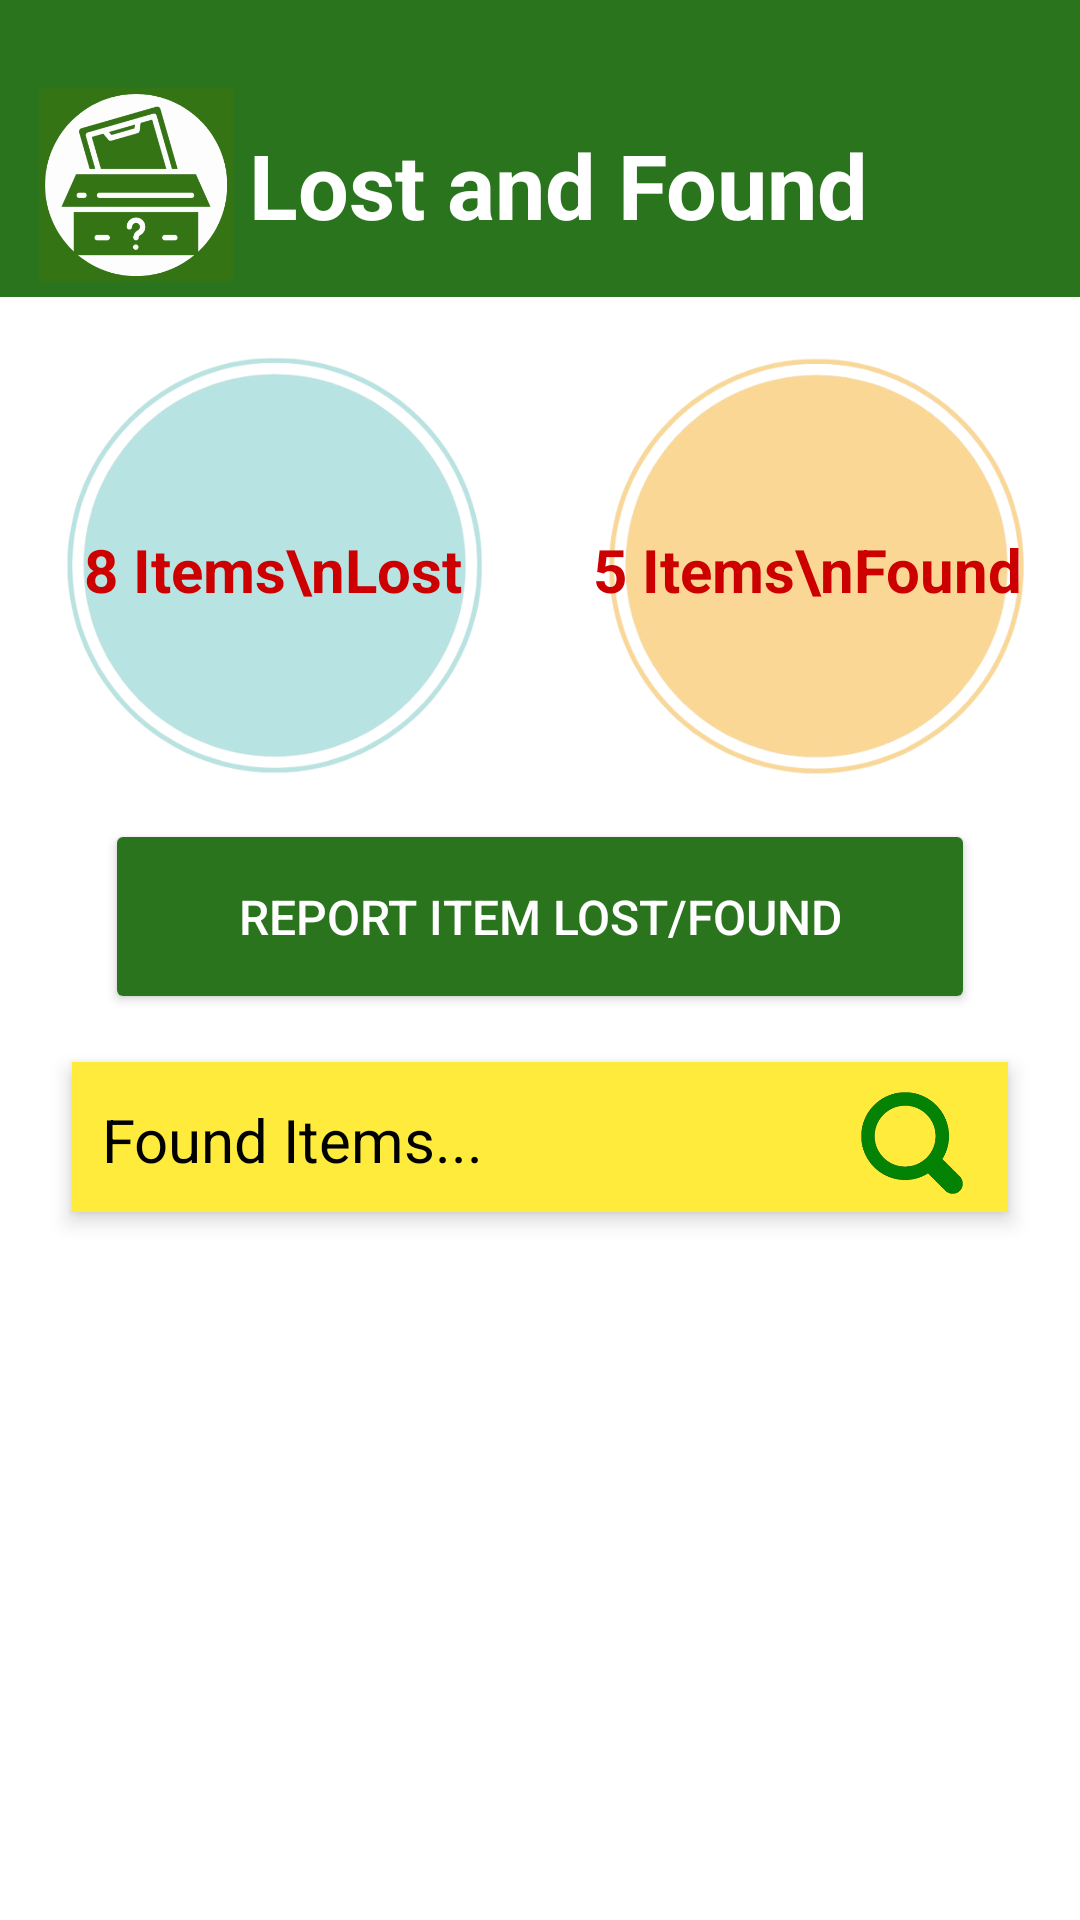

Screen size 1080 × 1920. Icon name, then its center in pixels as point (x, y):
Search: point (912, 1143)
